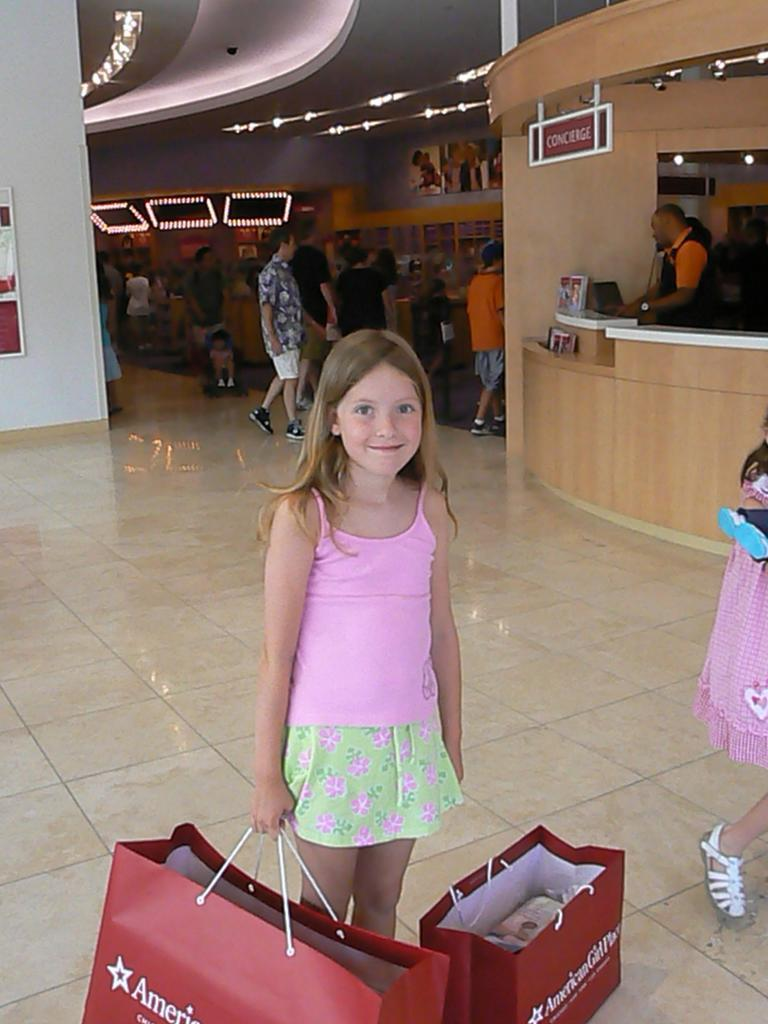Luggage-and-bags: (92, 817, 449, 1023), (415, 826, 621, 1023)
